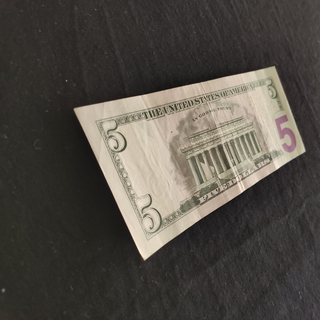5USDBack: (73, 65, 306, 261)
